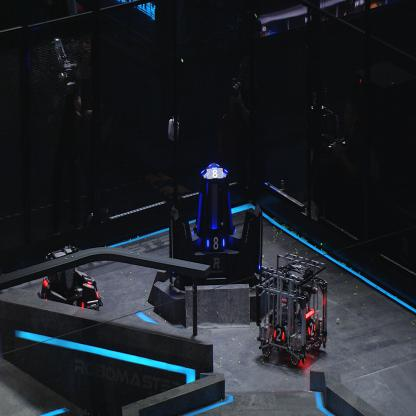car: (254, 249, 329, 366), (38, 245, 100, 320)
